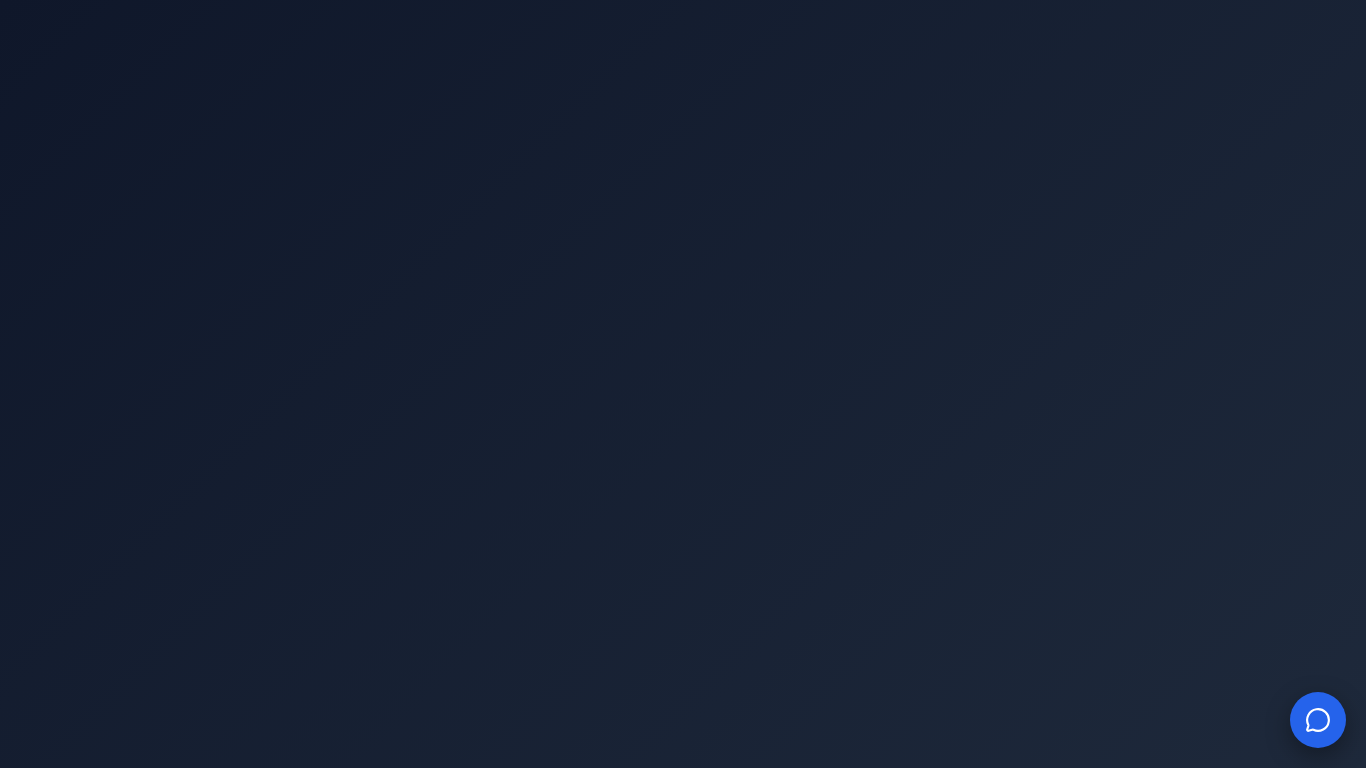
Scenario: ChatWidget › las sugerencias envían la pregunta con un clic
Click the button named "Abrir el asistente del clima".
click(1318, 720)  # box [1290,692,1346,748]
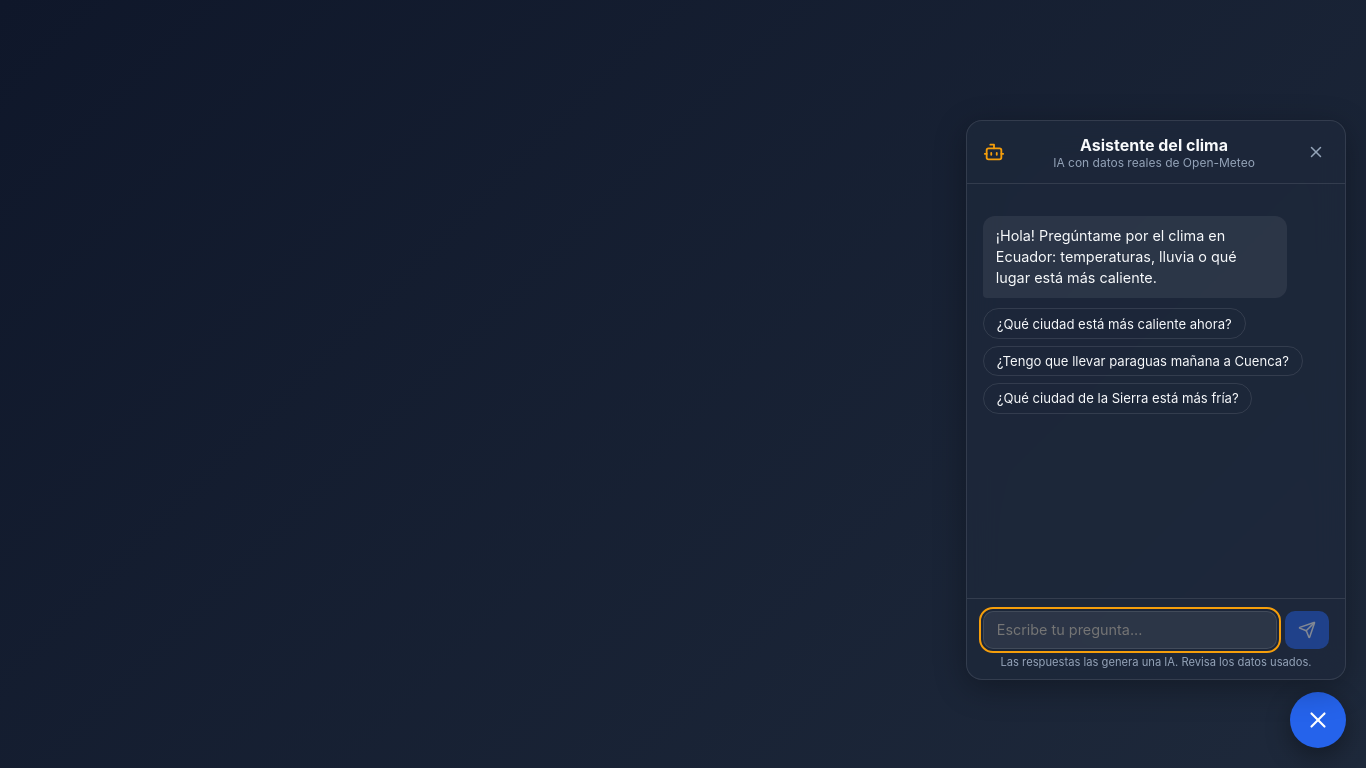
Click the button "¿Qué ciudad está más caliente ahora?".
click(1114, 324)  # box [983,308,1246,339]
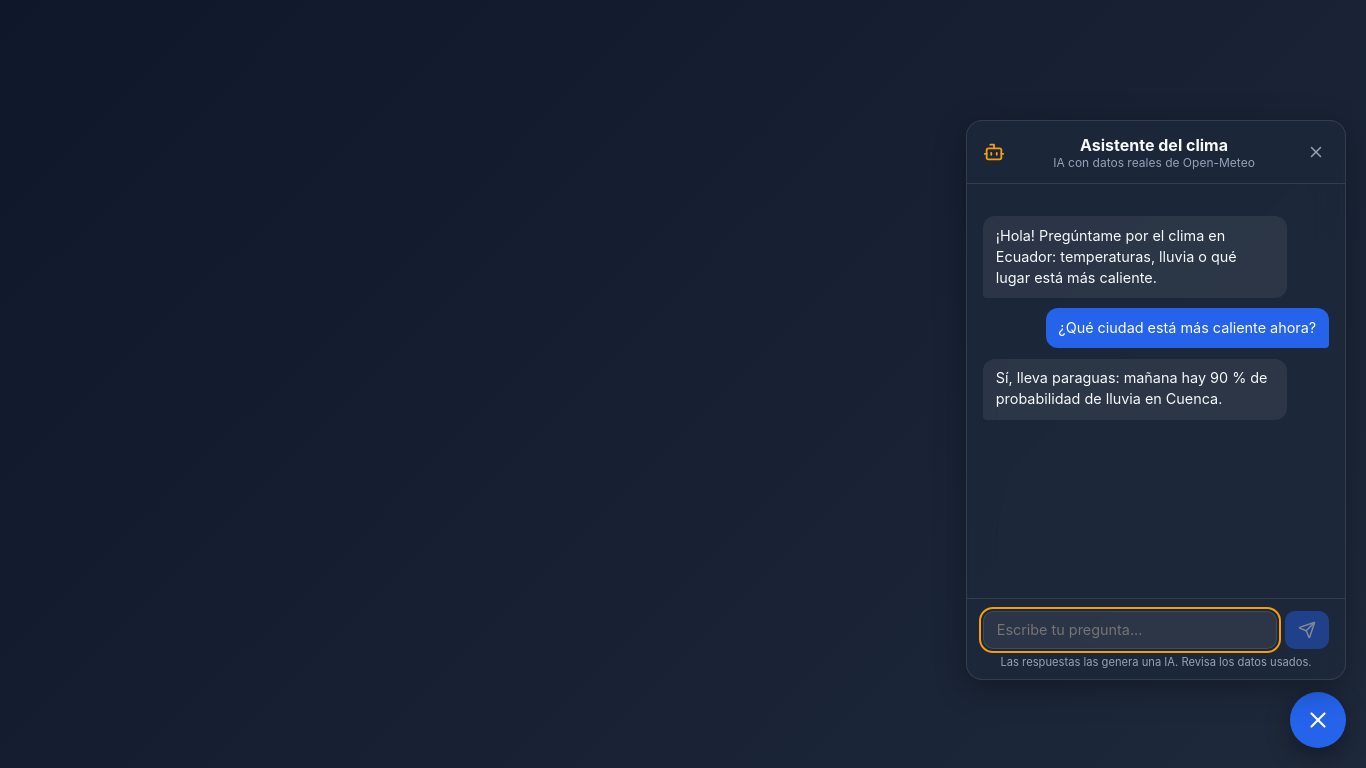
Now the text "¿Qué ciudad está más caliente ahora?" is shown, box [1046,308,1329,348]
Now the text "Sí, lleva paraguas: mañana hay 90 % de probabilidad de lluvia en Cuenca." is shown, box [996,368,1275,410]
